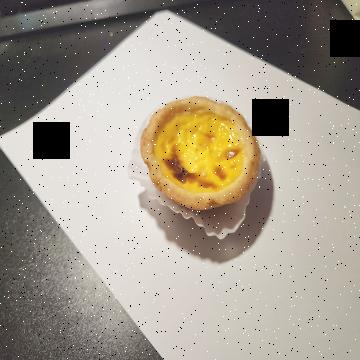EggTart: (140, 95, 262, 212)
